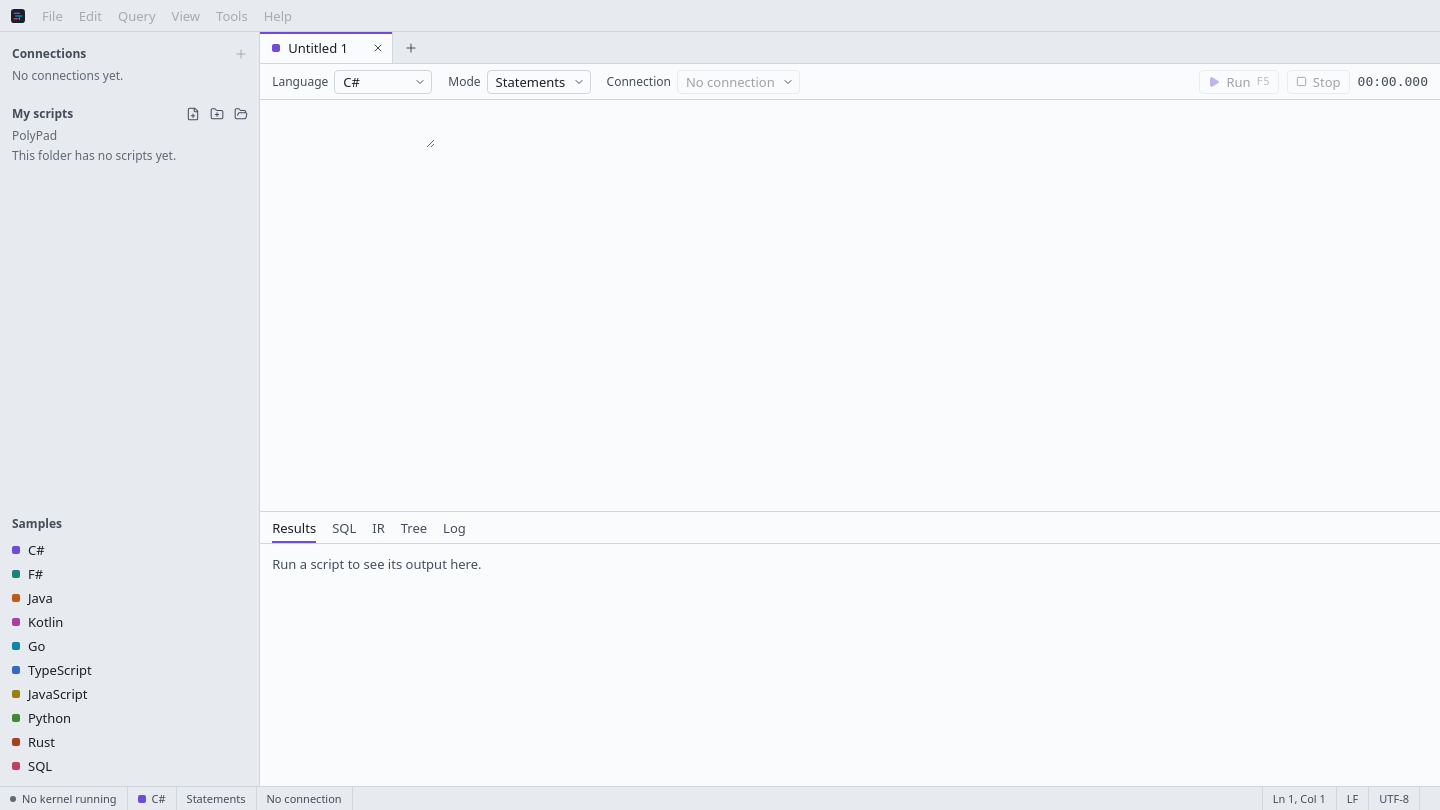
it: saving and closing › asks for a name with Ctrl+S, saves there and lists the new script
This screenshot has width=1440, height=810.
Clear the text box named "Editor text": x=348, y=128 [260, 108, 435, 148]
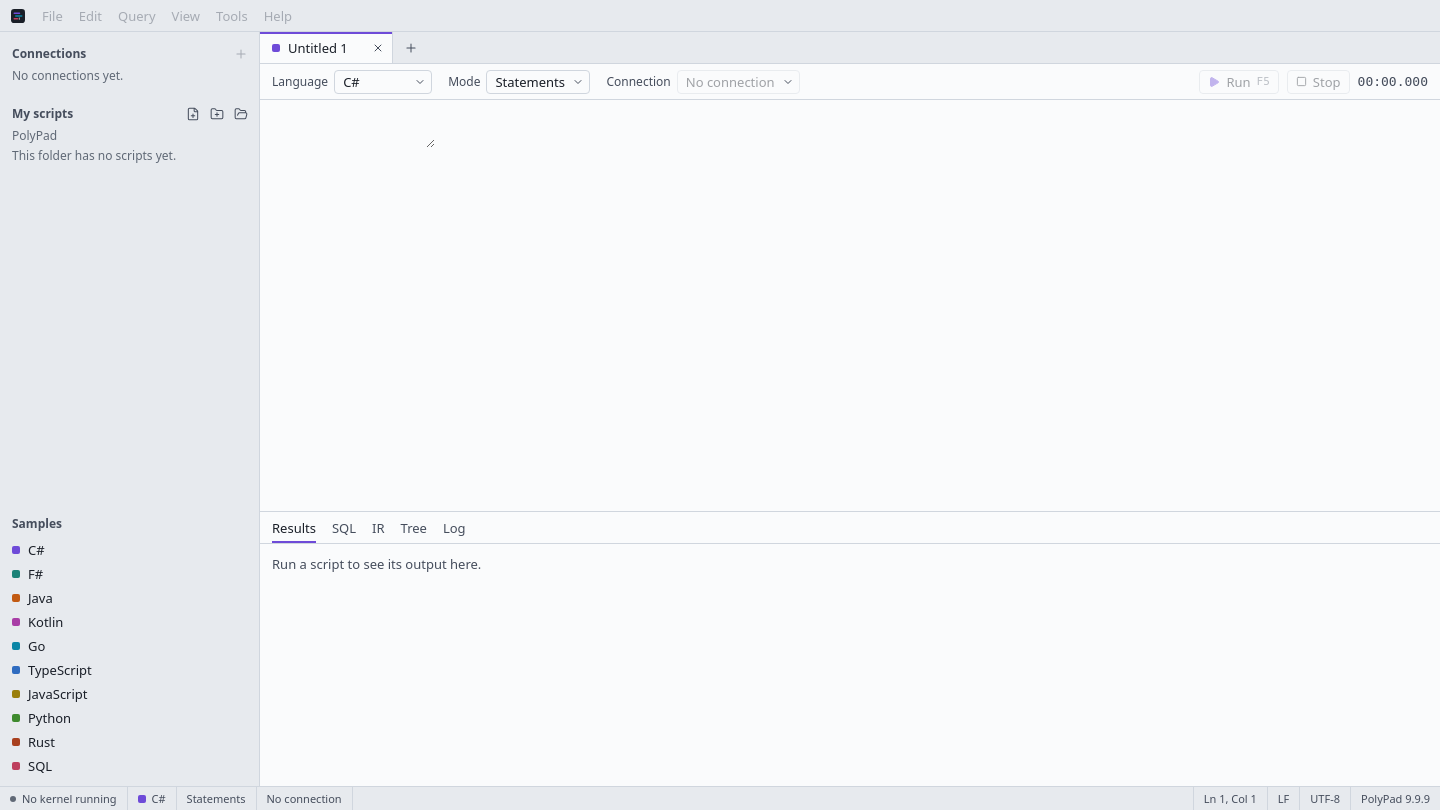
Check: the element named "Open scripts" is shown, box [260, 32, 393, 63]
In the text box named "Editor text": x=348, y=128 [260, 108, 435, 148], type "SELECT 1"
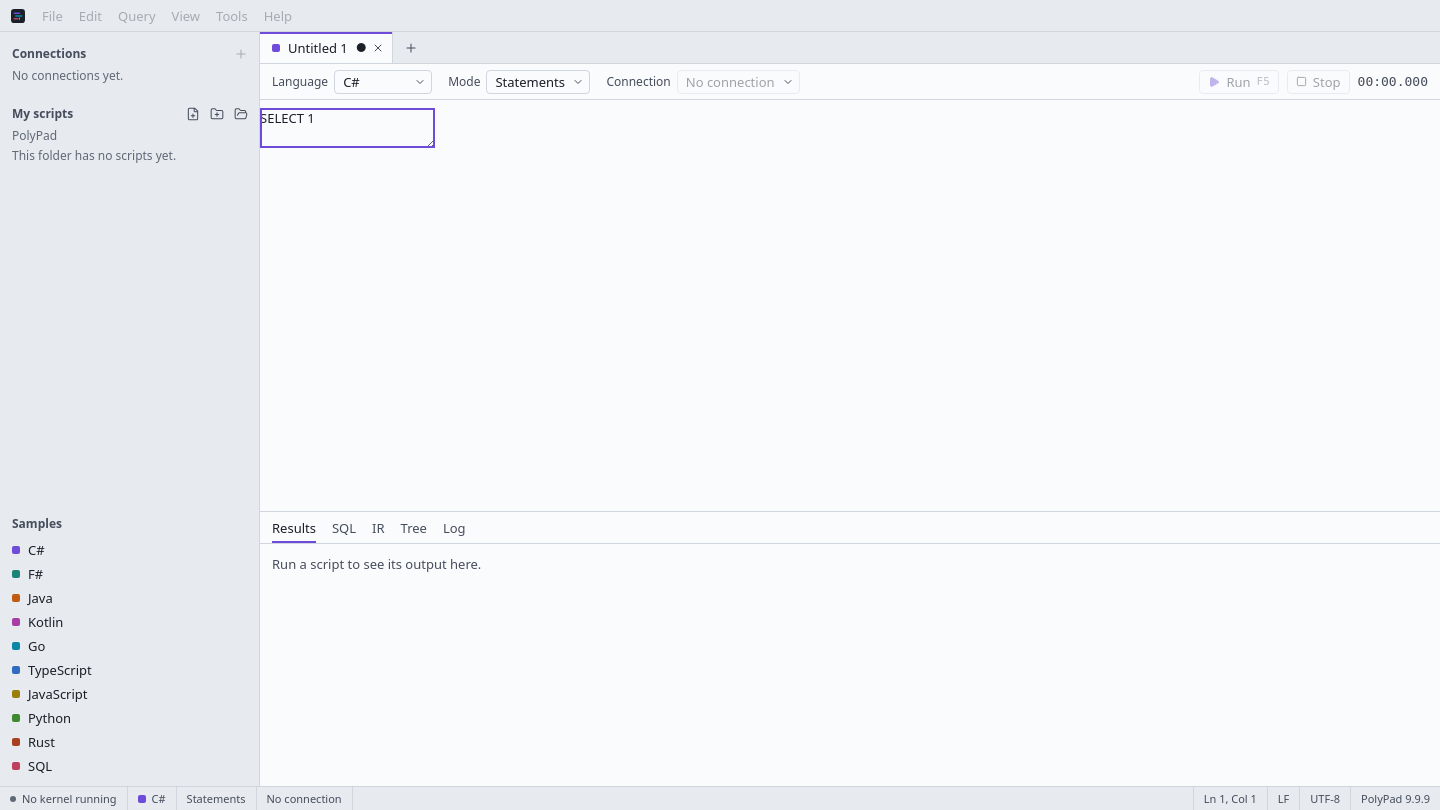
Type keys "{Control>}s{/Control}"
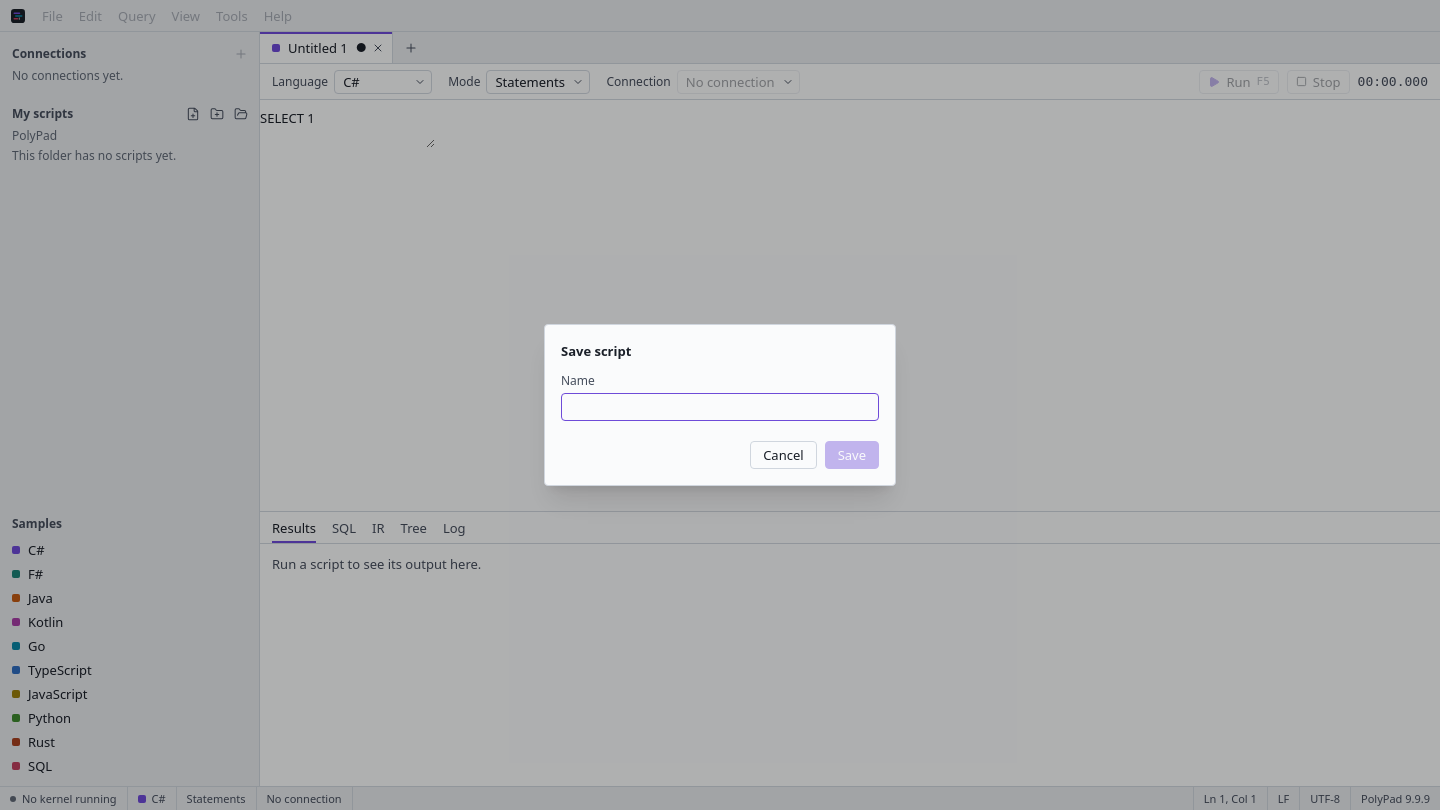
In the field labelled "Name": x=720, y=407 [561, 393, 879, 421], type "queries"
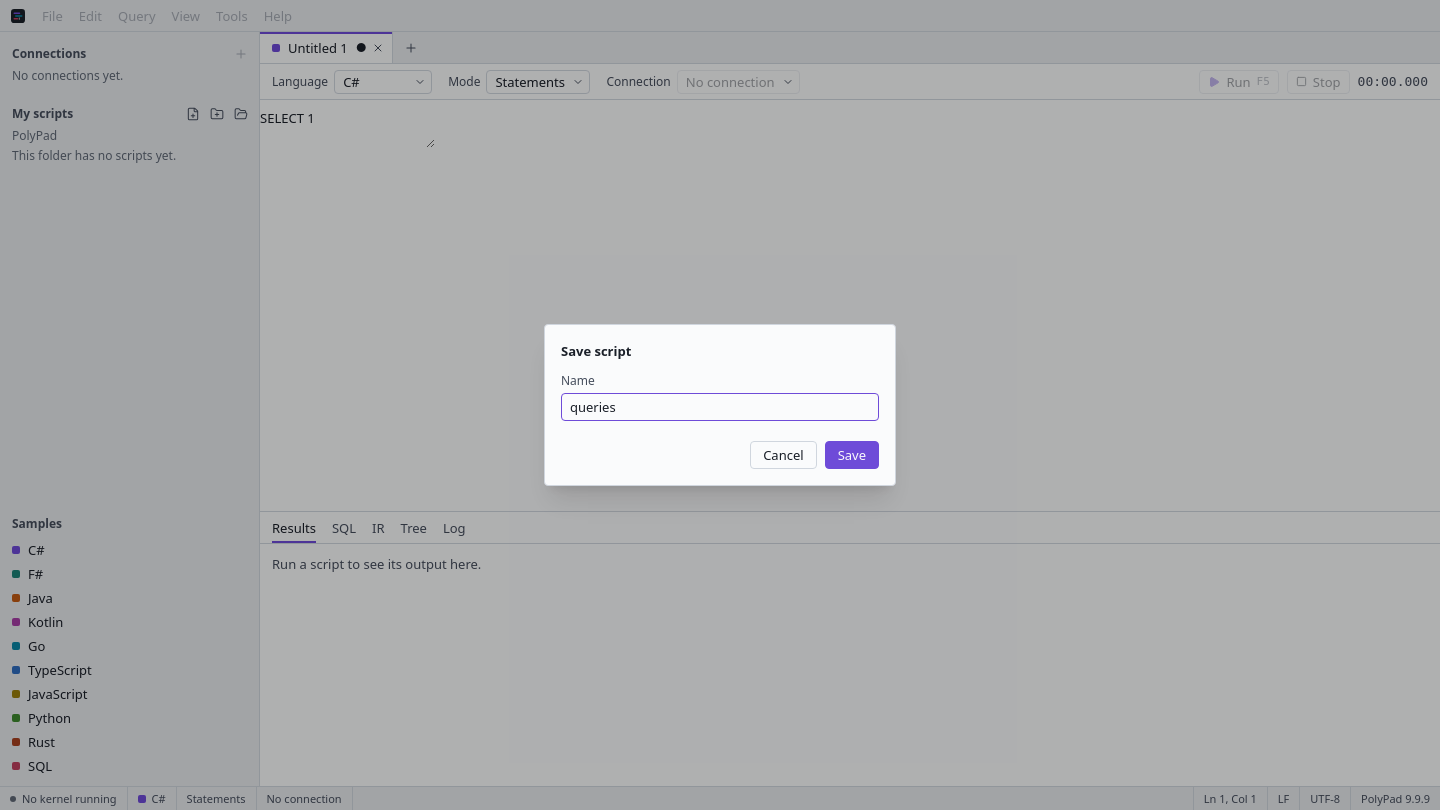
Click the button "Save": x=852, y=455 [825, 441, 879, 469]
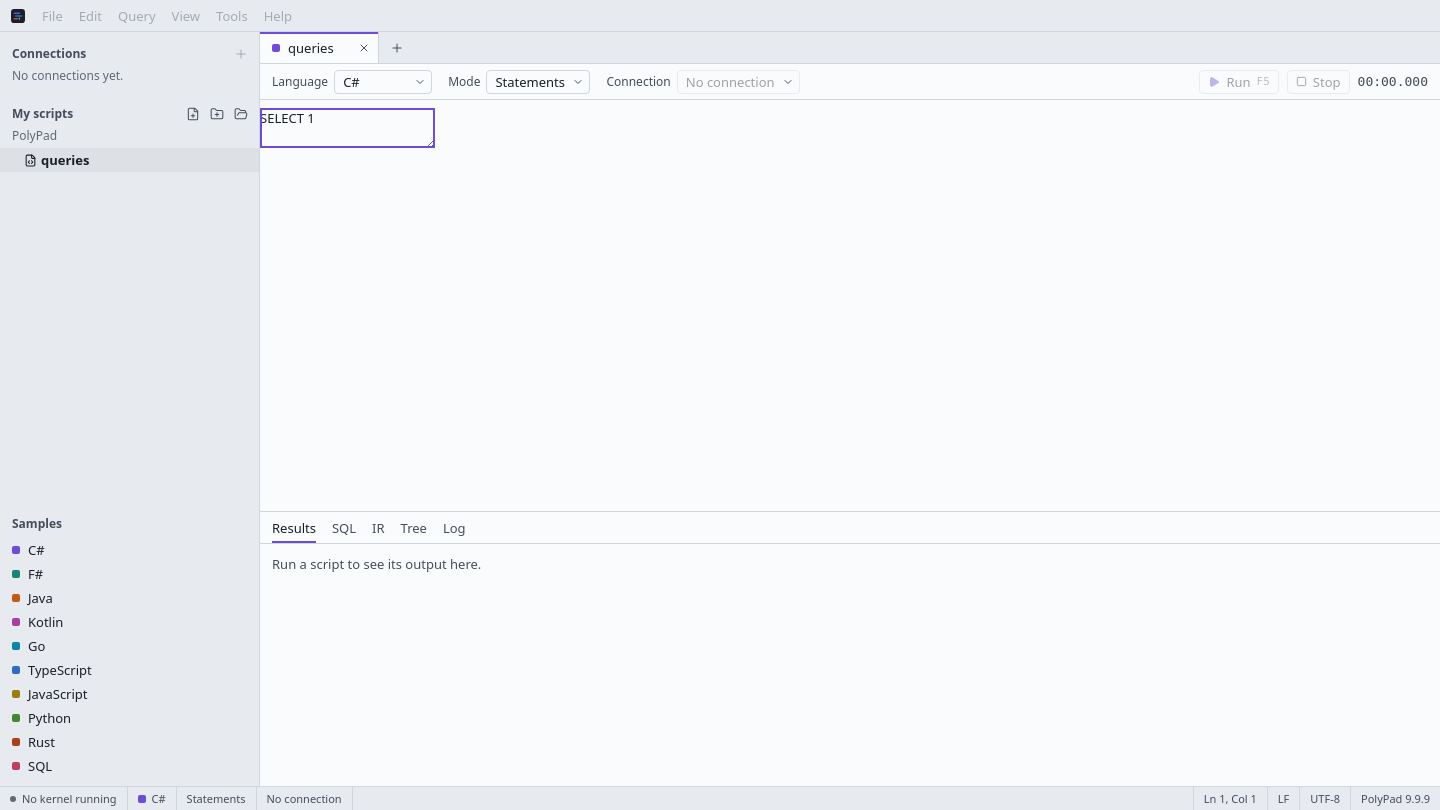
Check: the list item "queries" is shown, box [0, 148, 259, 172]
Check: the dialog is gone
